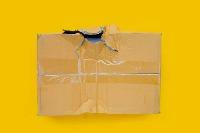damaged package: (58, 27, 118, 56)
undamaged: (33, 22, 166, 116)
